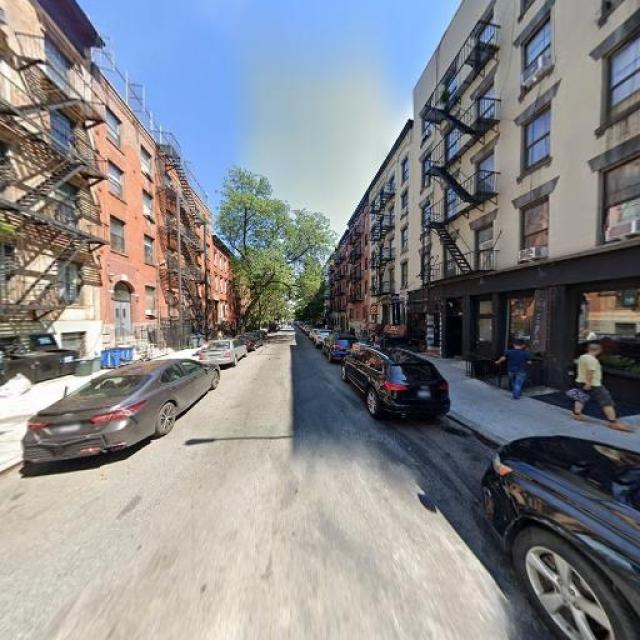Building: (413, 1, 573, 399), (1, 1, 93, 385), (579, 1, 640, 419), (99, 68, 178, 362), (369, 127, 410, 354), (182, 179, 212, 344), (349, 198, 367, 340)
